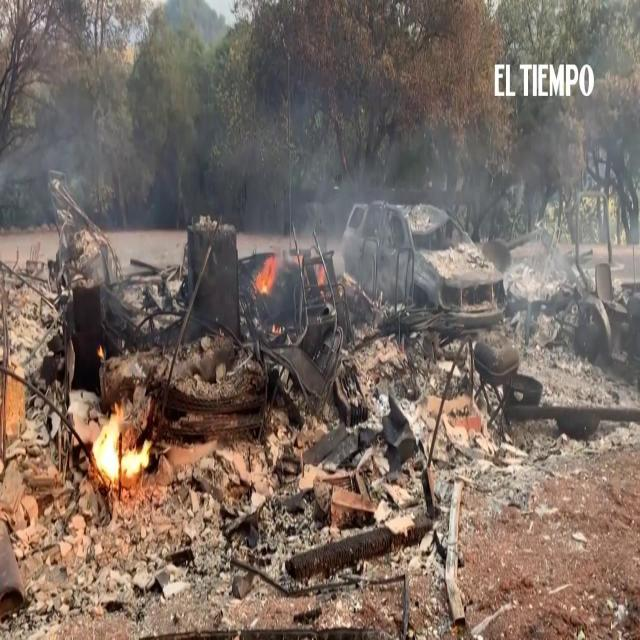Fire: (95, 410, 153, 482), (253, 252, 277, 294)
